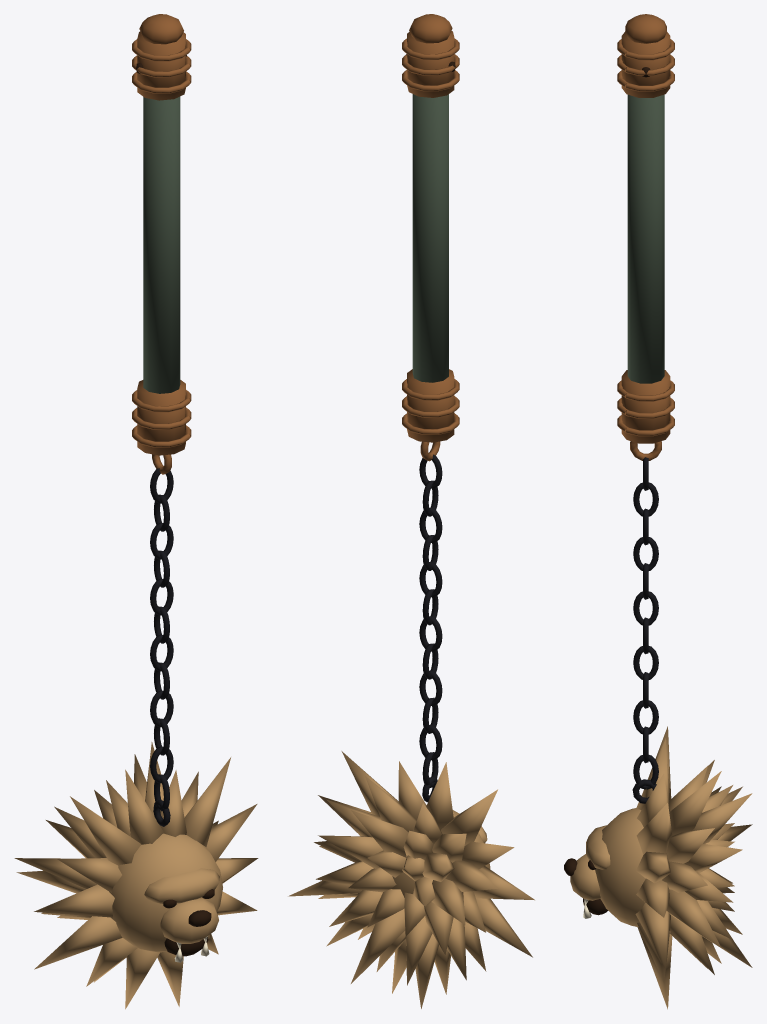
The model's file is carina_flail.glb.
3 renders of one model, left to right at view 1: azimuth 30°, elevation 25°; view 2: azimuth 150°, elevation 25°; view 3: azimuth 270°, elevation 25°, orthographic. The views are drawn at different scales.
Visible parts, largest first — view 1: P_ball, P_flail; view 2: P_ball, P_flail; view 3: P_ball, P_flail, P_c1, P_c5, P_c9, P_c7, P_c3.
Part boxes in pixels (bbox=[...]): P_ball: bbox=[14, 742, 258, 1009]; P_flail: bbox=[132, 14, 191, 474]; P_ball: bbox=[288, 751, 534, 1008]; P_flail: bbox=[402, 14, 459, 461]; P_ball: bbox=[564, 726, 752, 1009]; P_flail: bbox=[617, 14, 674, 460]; P_c1: bbox=[633, 482, 658, 516]; P_c5: bbox=[633, 591, 658, 625]; P_c9: bbox=[633, 700, 658, 734]; P_c7: bbox=[633, 646, 658, 679]; P_c3: bbox=[633, 537, 658, 570].
Bounding box in the file's own units: 0.2206 × 0.9351 × 0.1634.
